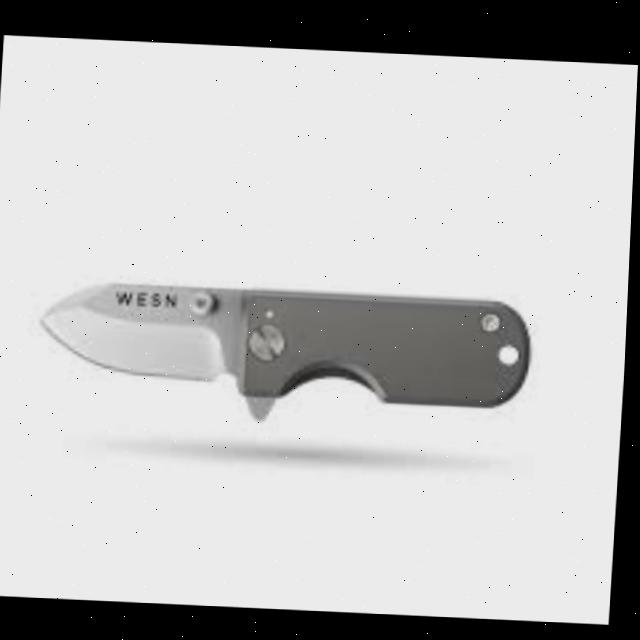Knife: (35, 274, 534, 427)
